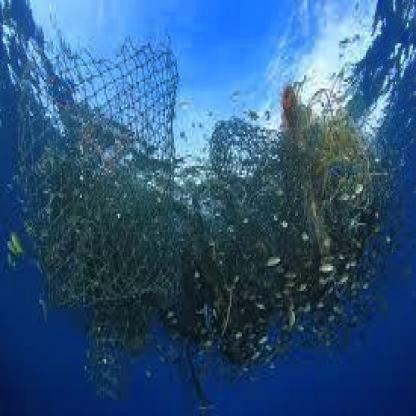net: (17, 38, 375, 330)
